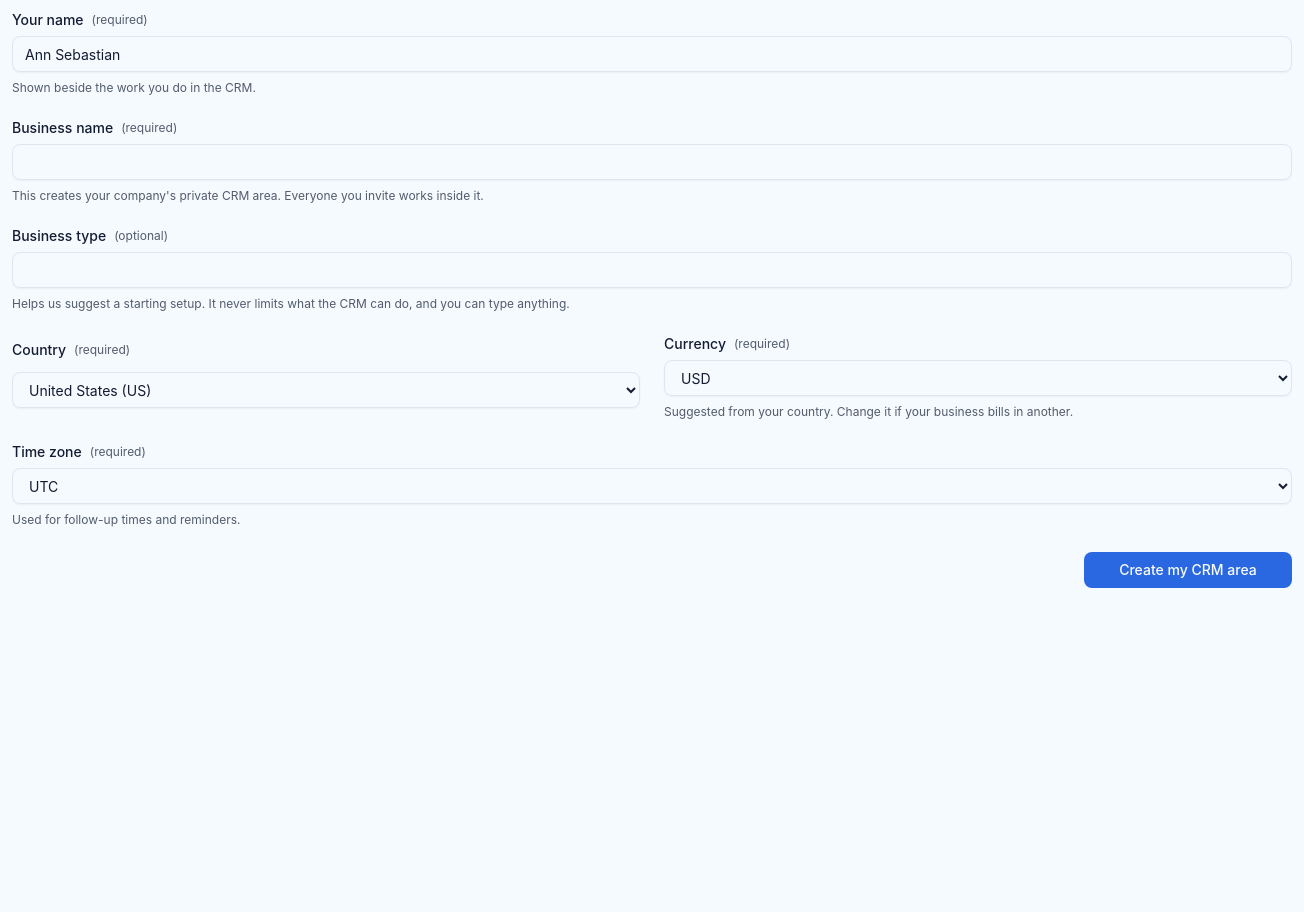
Test case: submission states › 20. keeps a temporary failure retryable
This screenshot has width=1304, height=912.
Click the button "Create my CRM area".
click(1188, 570)  # box [1084,552,1292,588]
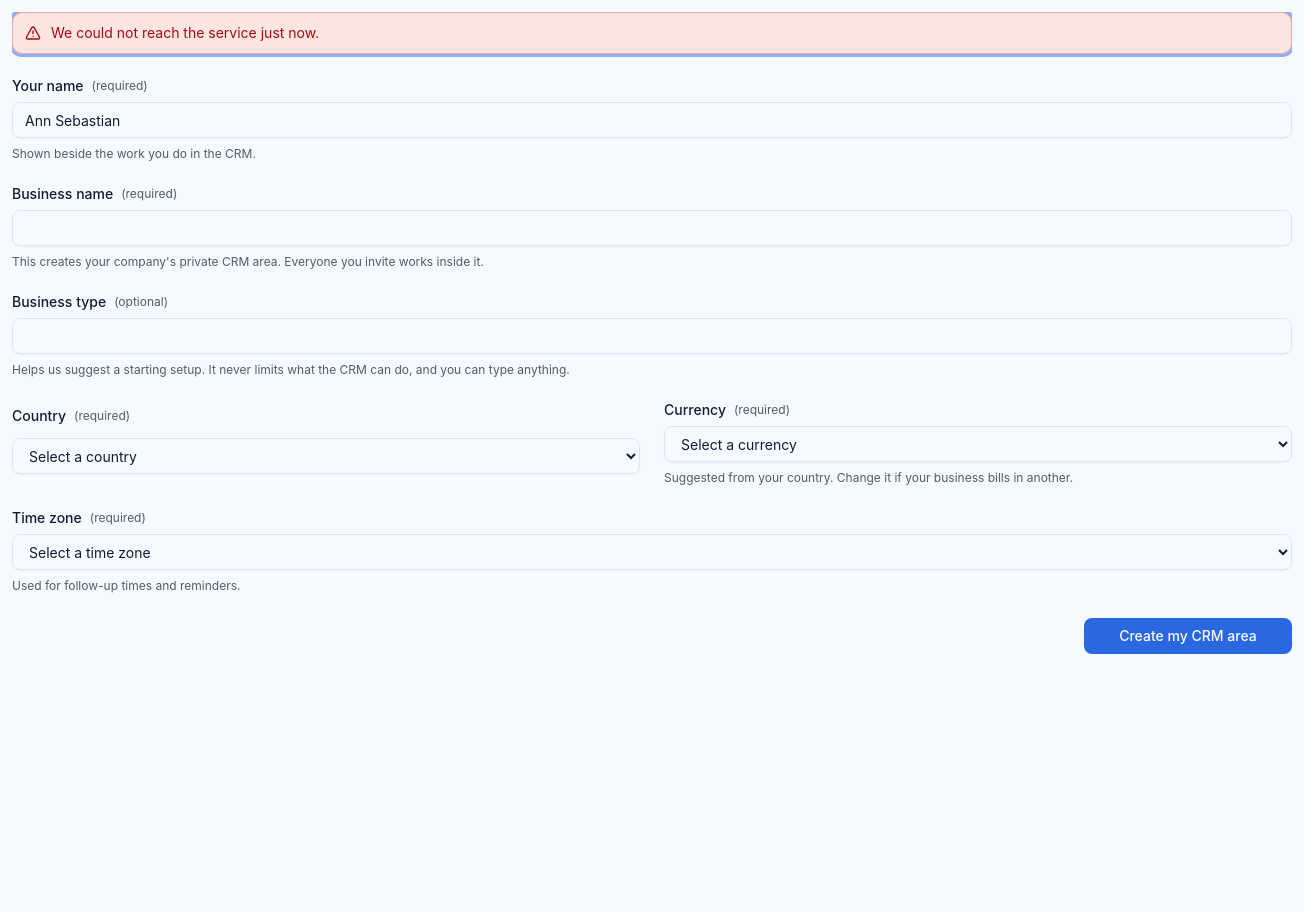
Check: the button "Create my CRM area" is enabled, box [1084,618,1292,654]
Check: the message shows "could not reach the service", box [51,24,319,41]
